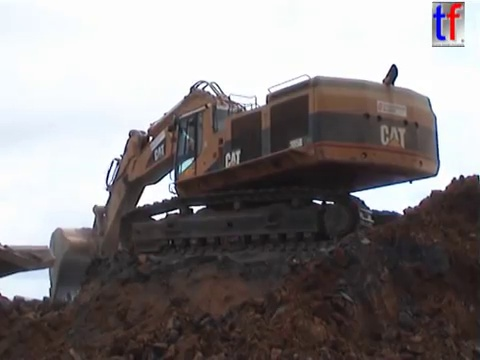excavator: (46, 60, 443, 304)
truck: (1, 240, 59, 282)
